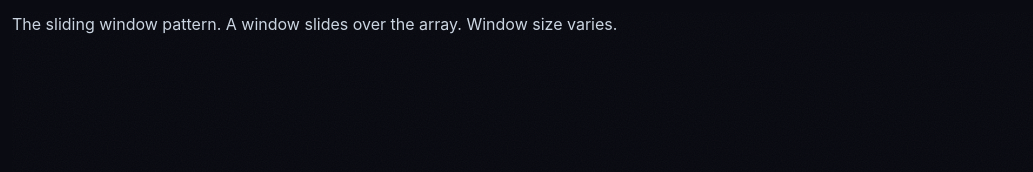
Test: ArticleFind › clears highlights on close
Press /
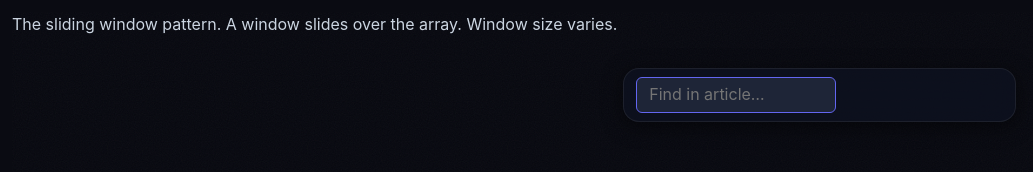
Type "window" into the field labelled "Find in article" at (736, 95), box 636,77 -> 836,113
Wait 200 ms
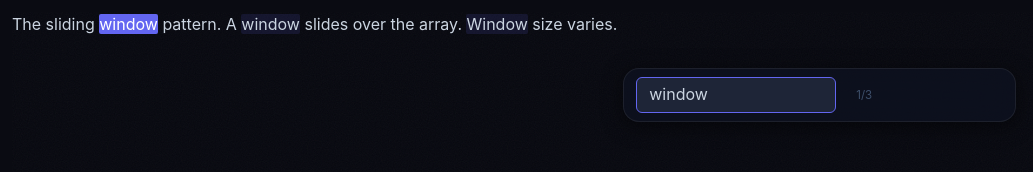
Press Escape in the field named "Find in article", box 636,77 -> 836,113
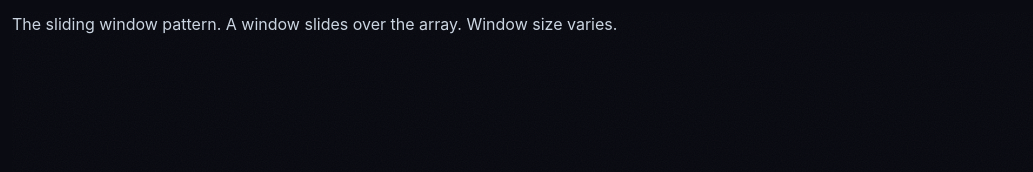
Result: no elements with class "article-find-hit" are shown
